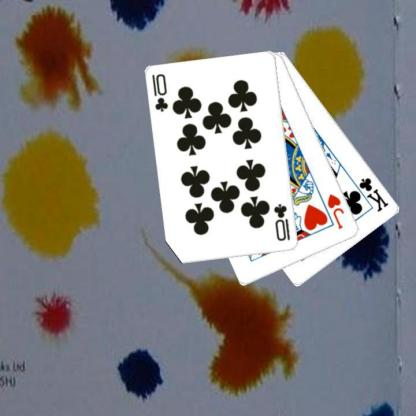10C: (272, 201, 292, 243), (150, 71, 169, 113)
JH: (324, 191, 346, 231)
KC: (350, 175, 390, 213)
